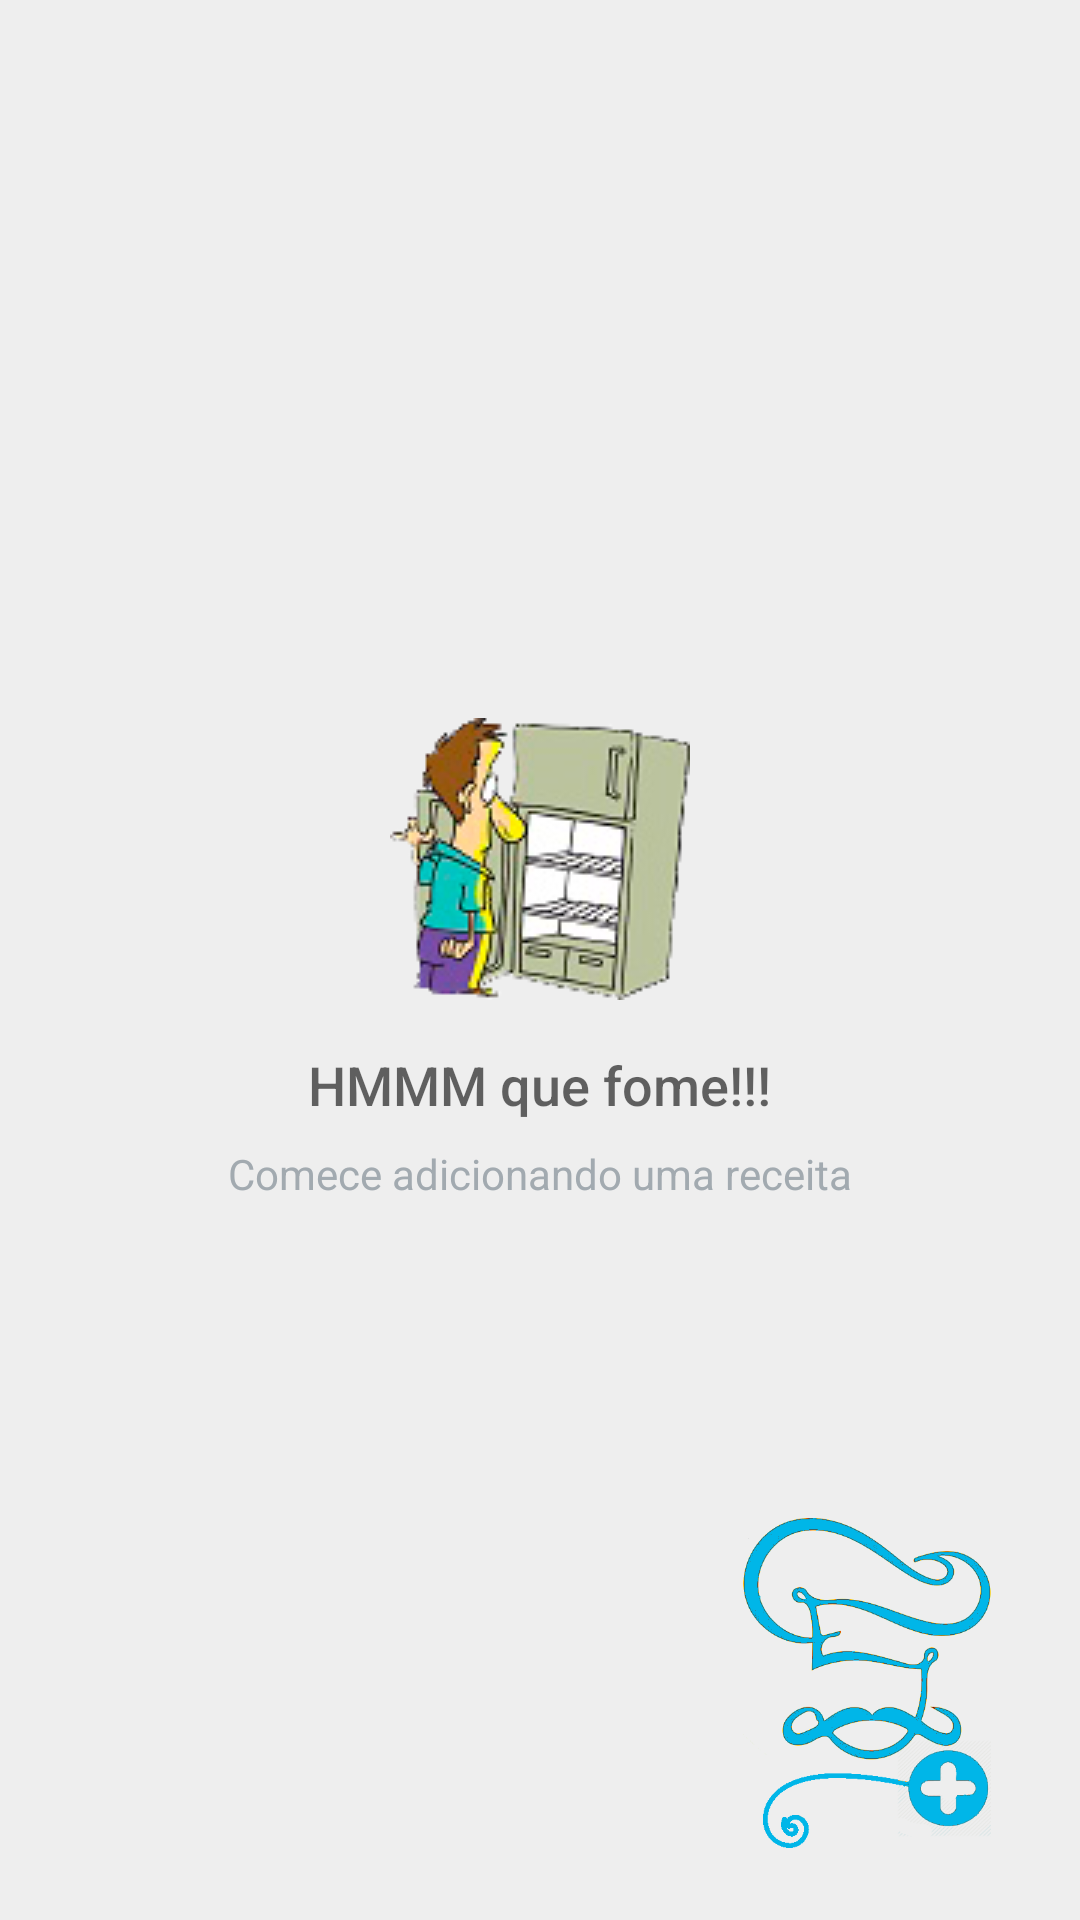

Icons on this 1080px x 1920px Android screen, each with its box as (x1, y1, x2, y2):
empty fridge transp: (390, 718, 690, 1000)
fab chef: (743, 1518, 991, 1848)
